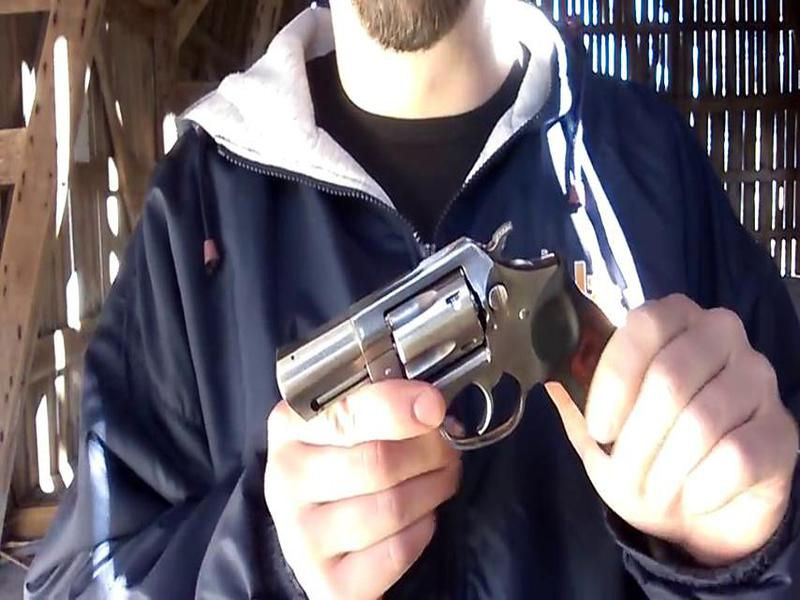Revolver: (251, 224, 680, 474)
